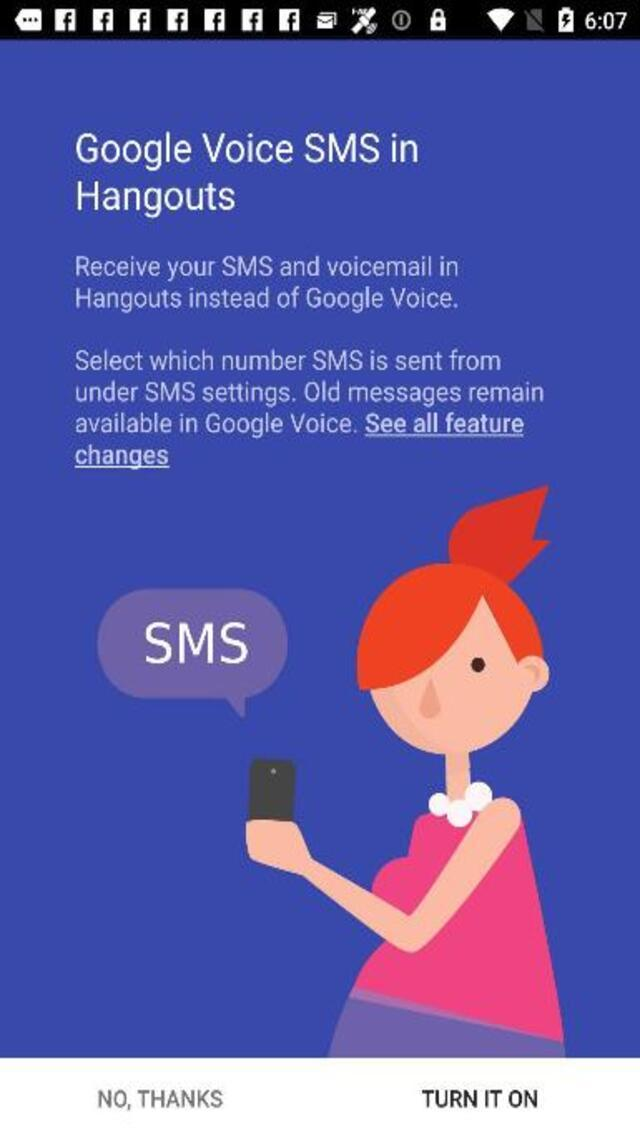Image: (98, 484, 564, 1056)
Text: (74, 129, 423, 173), (72, 411, 529, 439), (71, 380, 549, 405), (74, 252, 462, 282), (72, 347, 505, 373), (73, 285, 463, 313), (128, 608, 263, 682), (74, 178, 239, 222), (71, 445, 170, 473), (97, 1090, 222, 1111), (421, 1090, 537, 1108)
